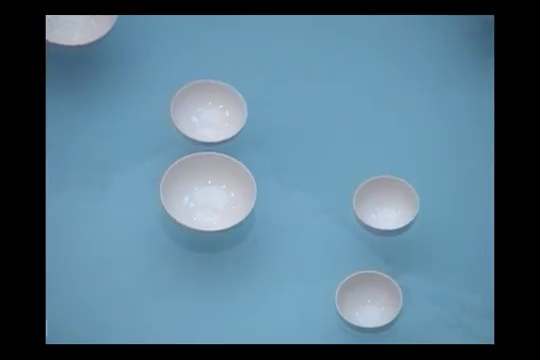bowl: (158, 152, 257, 236), (170, 80, 247, 148), (334, 270, 403, 335), (353, 175, 420, 237), (46, 15, 117, 52)
